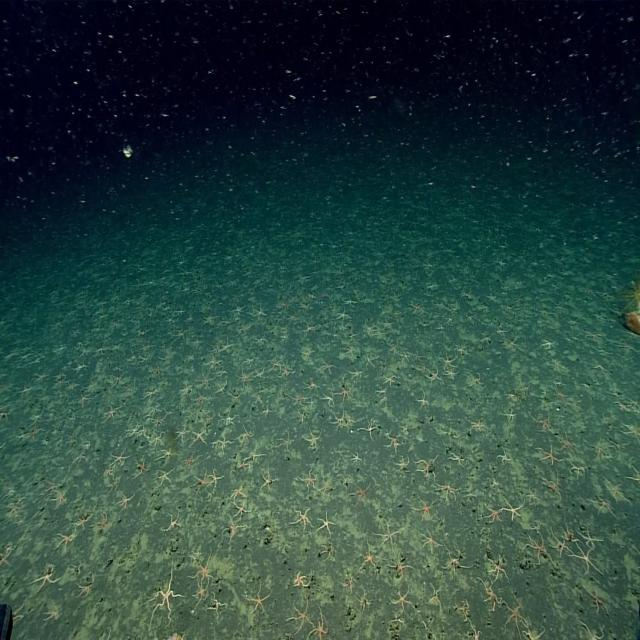brittle-stars: (151, 570, 178, 618), (572, 546, 600, 576), (503, 597, 525, 635), (525, 534, 550, 566), (31, 564, 57, 594), (377, 522, 401, 552), (290, 600, 312, 632), (247, 585, 269, 614), (587, 588, 609, 616), (310, 610, 330, 640), (480, 579, 500, 609), (590, 491, 613, 517), (444, 549, 466, 576), (359, 543, 378, 574), (194, 553, 214, 582), (389, 555, 412, 580), (389, 588, 412, 612), (579, 525, 602, 549), (487, 557, 508, 583), (414, 496, 435, 521), (558, 432, 578, 458), (502, 498, 523, 522), (294, 507, 314, 532), (604, 479, 624, 504), (537, 444, 559, 466), (415, 456, 436, 479), (356, 477, 376, 501), (551, 530, 569, 556), (351, 482, 371, 505), (437, 482, 460, 502), (580, 624, 608, 640), (317, 512, 335, 536), (56, 530, 77, 550), (484, 501, 503, 523), (225, 518, 244, 540), (622, 420, 640, 443), (591, 441, 609, 464), (421, 528, 438, 552), (523, 624, 548, 640), (543, 474, 559, 498), (304, 427, 322, 448), (359, 418, 376, 440), (262, 469, 278, 492), (45, 606, 64, 625), (110, 446, 128, 466), (450, 448, 468, 468), (278, 434, 296, 454), (166, 512, 183, 533), (92, 511, 108, 533), (385, 432, 401, 454), (210, 593, 226, 615), (194, 582, 210, 604), (158, 467, 176, 486), (116, 491, 134, 510), (160, 446, 178, 465), (234, 500, 251, 520), (302, 468, 318, 489), (318, 478, 334, 499), (194, 472, 210, 493), (366, 418, 382, 439), (214, 436, 232, 454), (338, 384, 354, 404), (293, 569, 309, 589), (54, 487, 70, 507), (536, 414, 552, 434), (415, 388, 430, 409), (468, 418, 486, 435), (288, 389, 306, 406), (103, 405, 119, 424), (239, 424, 254, 444), (74, 514, 91, 531), (393, 456, 409, 474), (441, 352, 458, 368), (234, 480, 250, 497), (70, 517, 86, 534), (208, 469, 223, 487), (182, 452, 197, 470), (232, 484, 247, 502), (467, 372, 482, 390), (221, 410, 236, 428), (206, 355, 222, 371), (425, 368, 440, 385), (629, 467, 640, 489), (192, 429, 207, 445), (300, 345, 315, 361), (348, 364, 364, 379), (443, 366, 459, 381), (202, 360, 218, 375), (502, 408, 516, 424), (320, 358, 334, 374), (321, 392, 335, 408), (219, 339, 233, 355), (332, 412, 346, 428), (526, 487, 539, 504), (150, 429, 162, 447), (136, 458, 148, 476), (383, 374, 398, 388), (306, 378, 320, 393), (338, 308, 352, 323), (239, 370, 252, 386), (195, 390, 208, 406), (76, 392, 90, 406), (541, 338, 555, 352), (175, 425, 188, 440), (281, 362, 293, 378), (344, 413, 356, 429), (345, 294, 358, 308), (204, 311, 216, 326), (238, 457, 250, 472), (364, 351, 376, 366), (104, 462, 115, 478), (350, 452, 362, 465), (270, 358, 282, 371), (254, 307, 266, 320)
